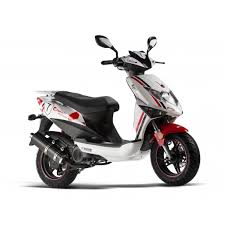motorcycle: (22, 31, 205, 190)
